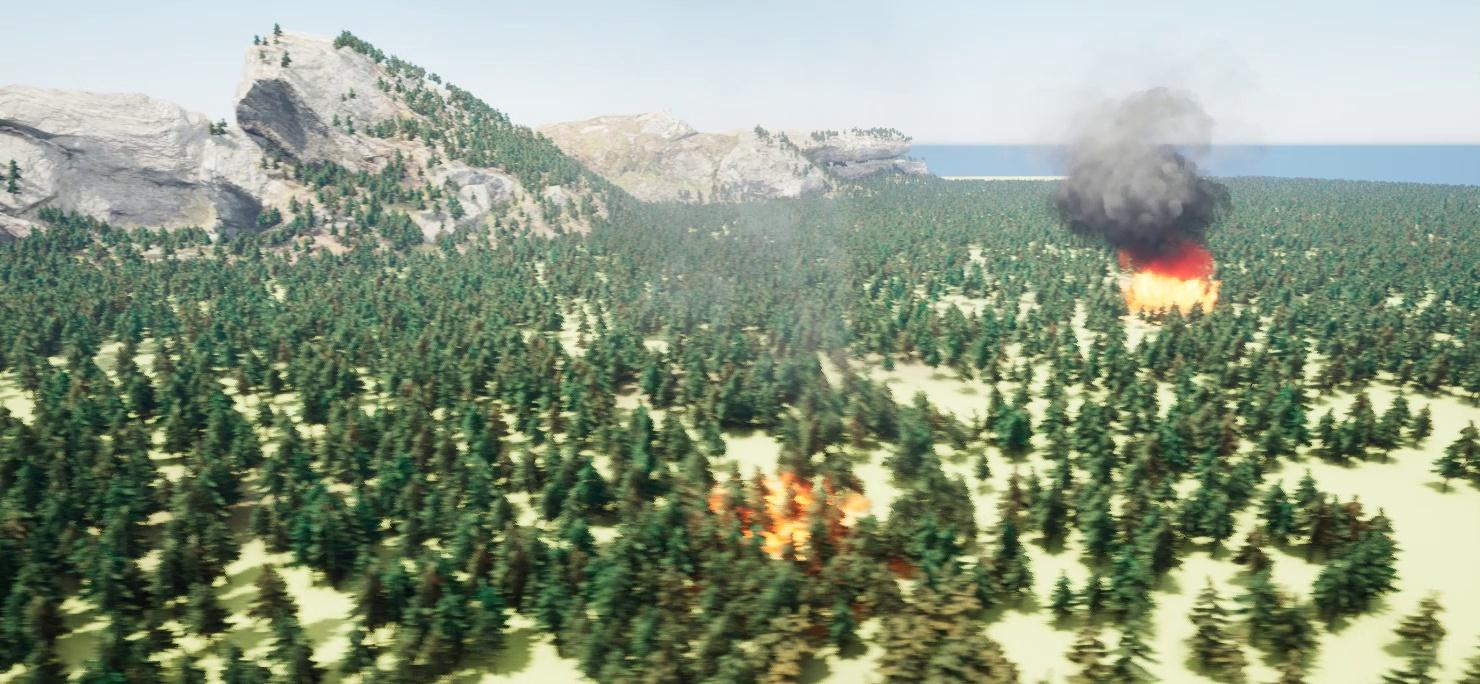fire: (712, 468, 878, 557), (1116, 247, 1234, 324)
smoke: (622, 126, 879, 398), (1044, 82, 1234, 245)
